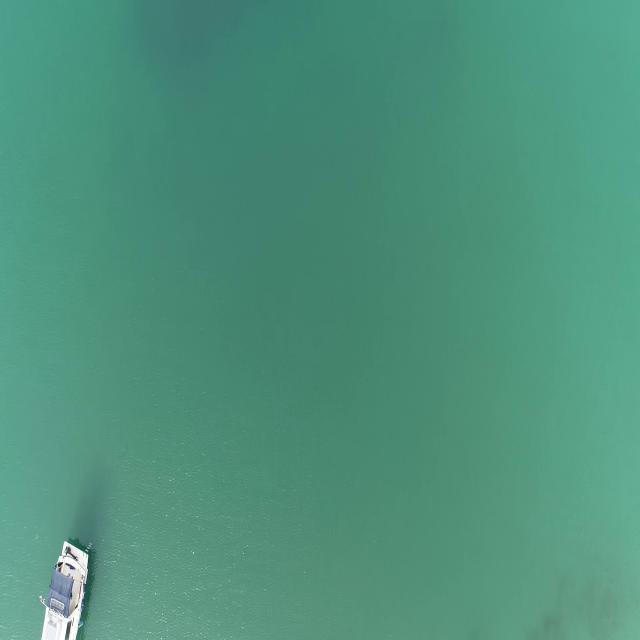boat: (37, 537, 95, 640)
